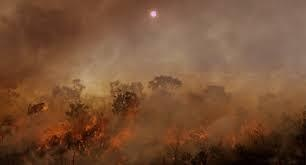fire: (163, 121, 211, 148)
